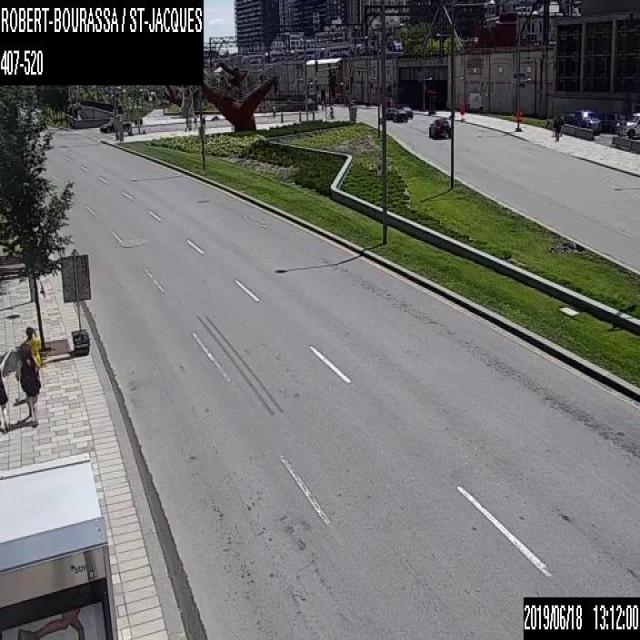construction: (515, 107, 523, 127), (458, 98, 466, 118)
cyclist: (326, 105, 336, 119)
pedestrian: (13, 324, 42, 427), (0, 362, 9, 430), (552, 112, 562, 140)
vehicle: (567, 108, 601, 134), (427, 115, 450, 140), (99, 116, 131, 132), (600, 111, 624, 131), (624, 111, 639, 138), (391, 108, 406, 122), (397, 104, 412, 118), (385, 106, 396, 119)
